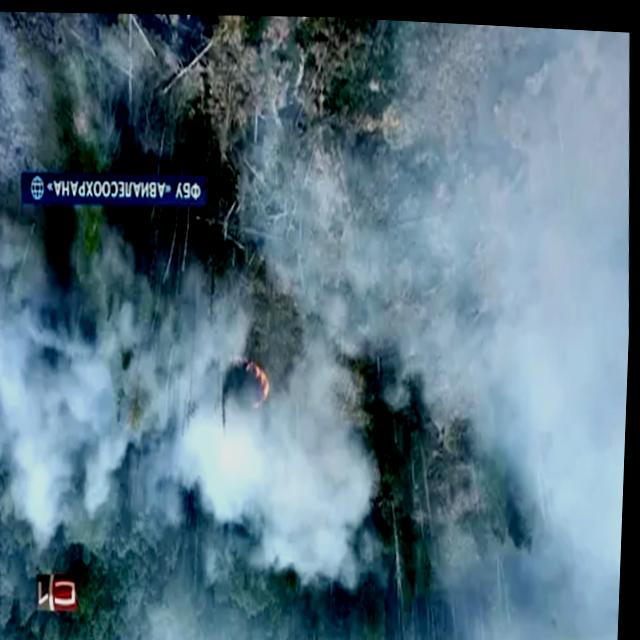no_helmet: (142, 333, 389, 582), (0, 252, 143, 522)
